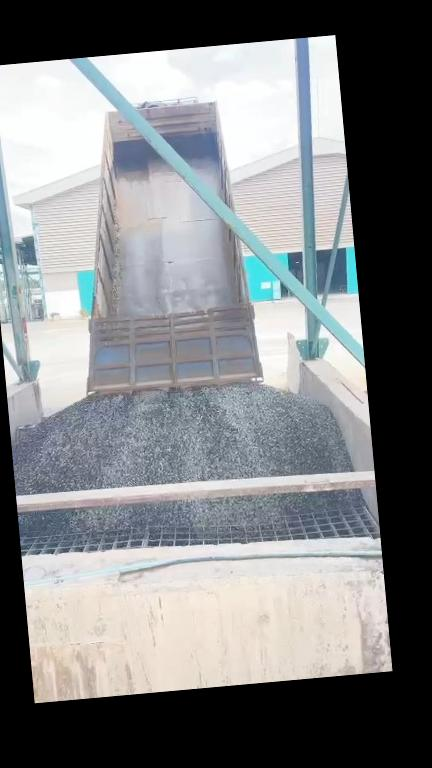gravel: (12, 384, 352, 493), (19, 491, 360, 533)
